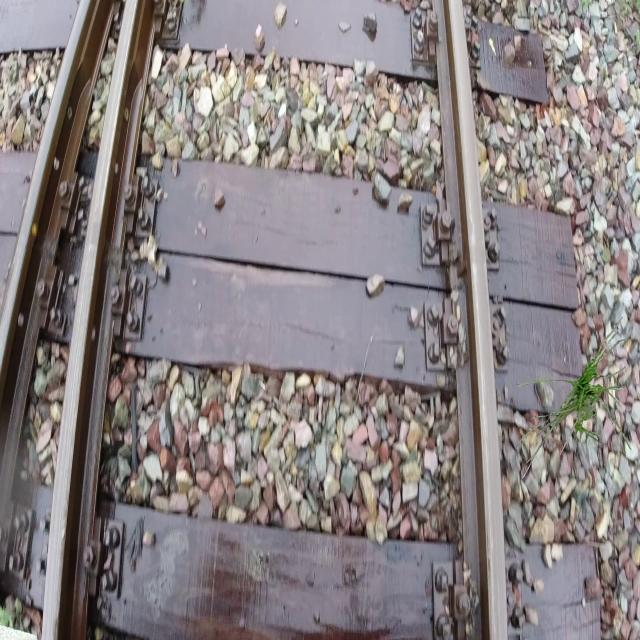Plant: (515, 316, 634, 480)
